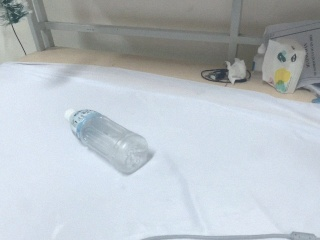bottle: (64, 107, 153, 176)
